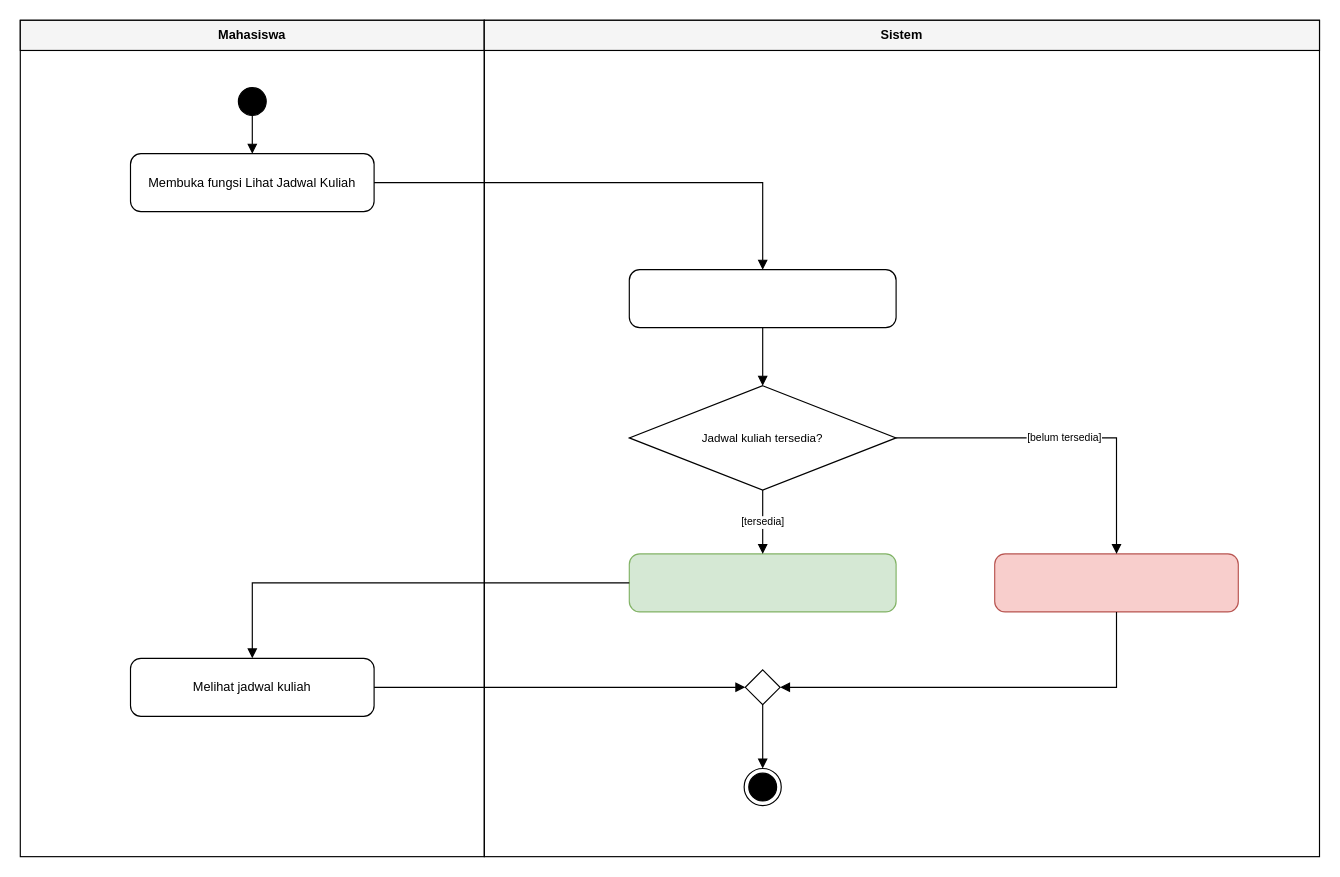
Image size: 1340x877. Some labels were removed from this diagram. Here are the shapes that lost their labels. From the top down, the box of each, then its label:
(628, 269, 896, 328): Mengambil data jadwal kuliah yang berlaku bagi mahasiswa
(628, 553, 896, 612): Menampilkan jadwal kuliah berupa mata kuliah, hari, jam, dan ruang
(994, 553, 1238, 612): Menampilkan pesan jadwal kuliah belum tersedia
